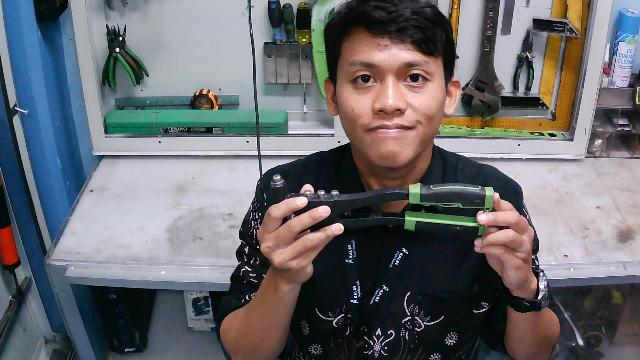tang_rivet: (264, 173, 495, 241)
